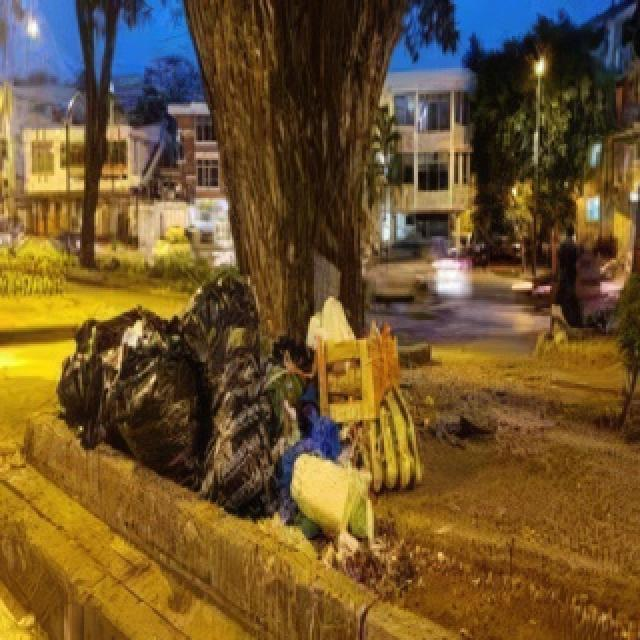Trashbag: (107, 351, 205, 477), (210, 368, 281, 520), (192, 282, 250, 356), (88, 313, 178, 347)
